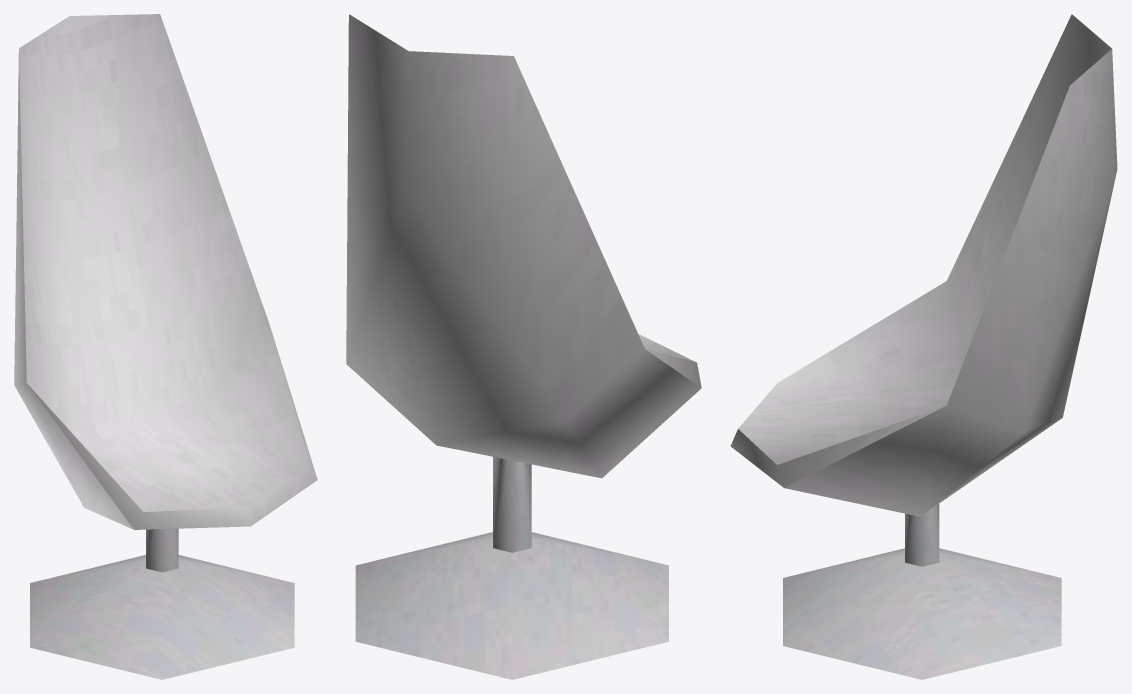
File: frn_all_mdrn_chair_s01_l2.fbx
3 renders of one model, left to right at view 1: azimuth 30°, elevation 25°; view 2: azimuth 150°, elevation 25°; view 3: azimuth 270°, elevation 25°, orthographic. The views are drawn at different scales.
Parts seen in each view (by area): view 1: mesh_node; view 2: mesh_node; view 3: mesh_node.
Boxes of the visible parts, box(x1,y1,x2,y2) form: mesh_node: box(14, 14, 317, 679); mesh_node: box(346, 14, 701, 679); mesh_node: box(730, 14, 1117, 679).
Bounding box in the file's own units: 0.7289 × 1.4 × 0.8766.
